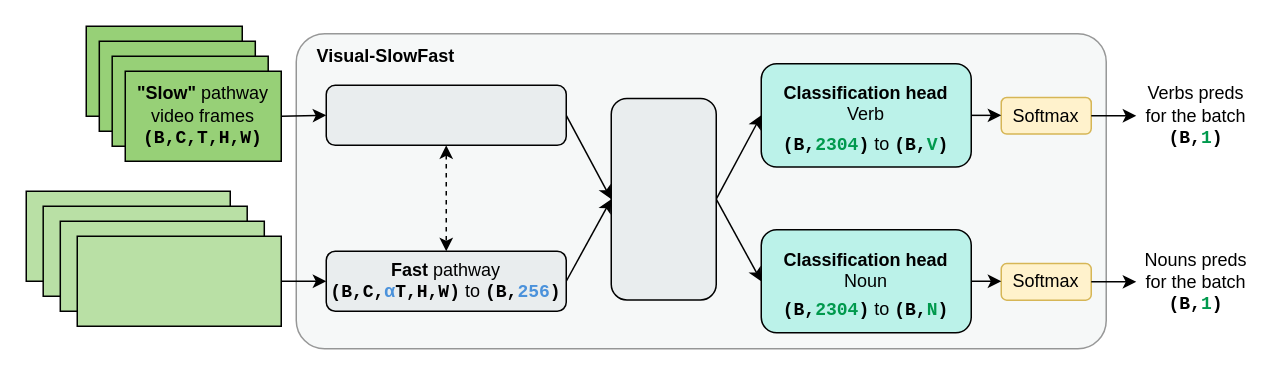
This 1283x375 diagram has some shape labels left out. The centre of each missing label's shape, as x and y in pixels:
"Fast" pathway video frames (B,C, α T ,H,W): point 178,280
Pooling + Concat. (B, 2304 ): point 663,198
Slow pathway (B,C,T,H,W ) to (B,2048 ): point 445,114
